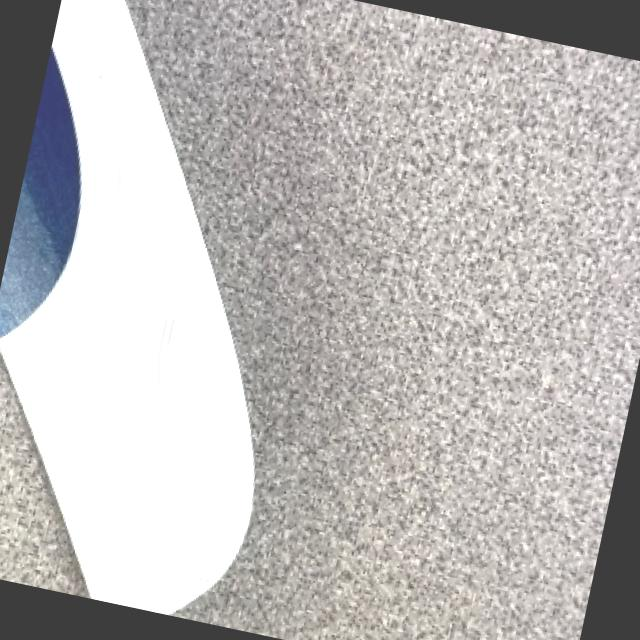healthy: (0, 0, 251, 612)
